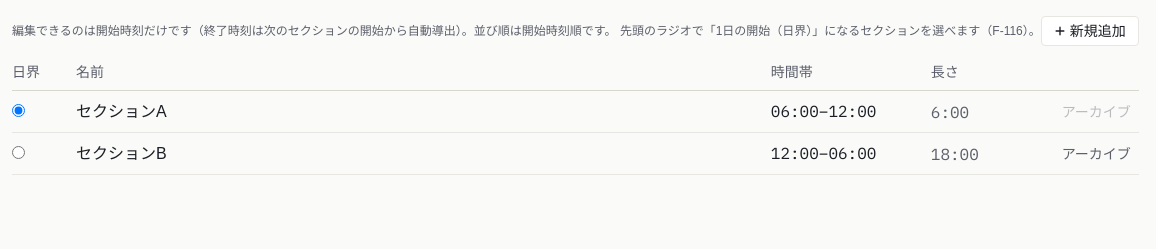
Test: SectionsTable（画面定義書03 §3.1: 開始時刻・日界の選択・終了時刻は導出） › 新規追加 › 成功したら新規行を閉じる（保存の完了を待って反映する。§1）
Step 1. Click the button "新規追加" → [1090, 31], box [1041,16,1139,46]
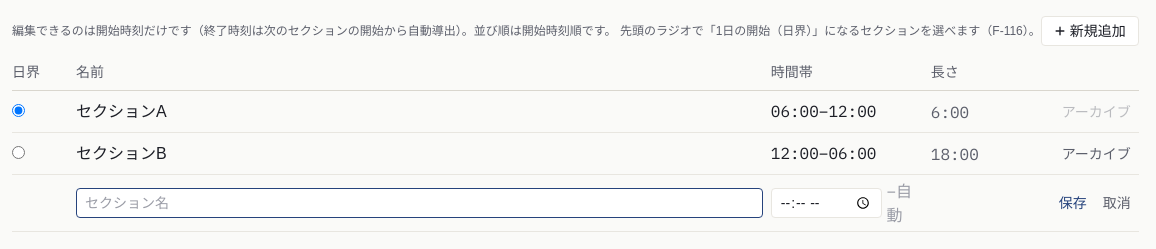
Step 2. Type "新セクション" into the field with placeholder "セクション名" → [419, 203], box [76,188,763,218]
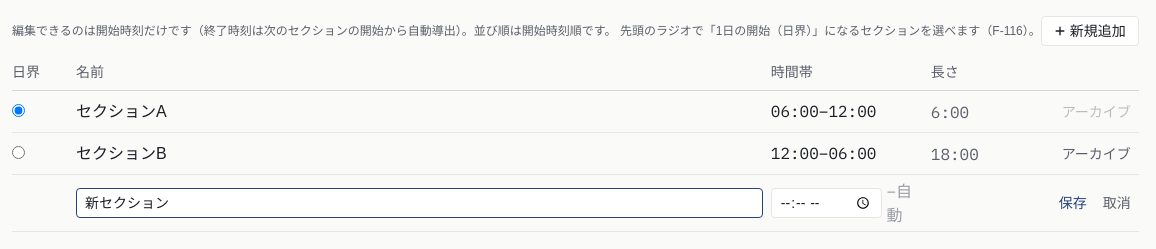
Step 3. Click the button "保存" → [1073, 203], box [1051,193,1095,213]
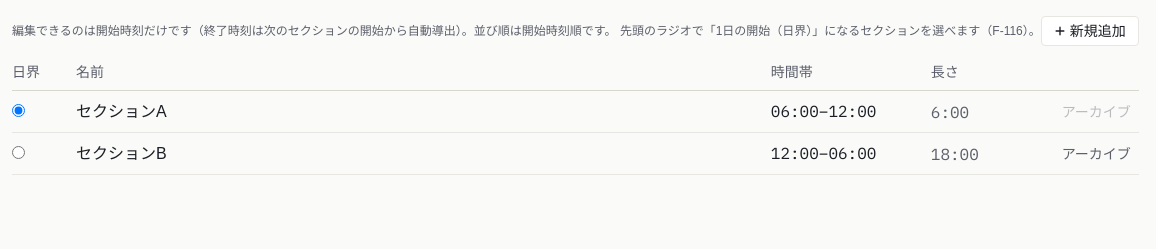
Now the field with placeholder "セクション名" is gone
